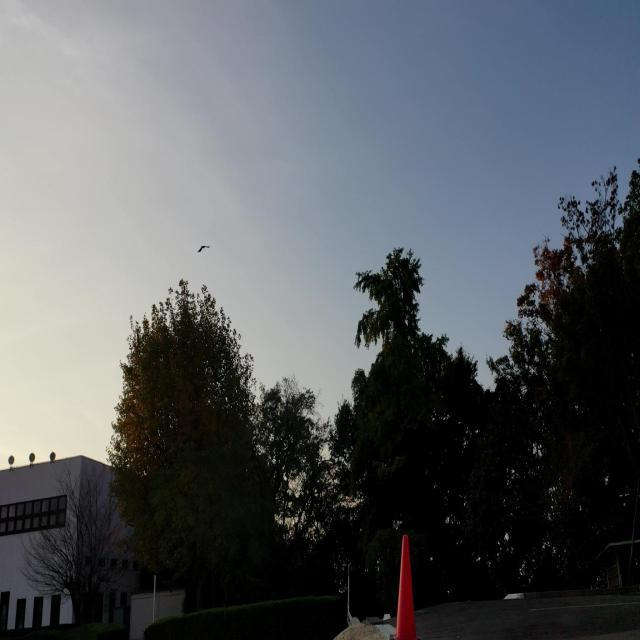Birds: (193, 230, 214, 264)
